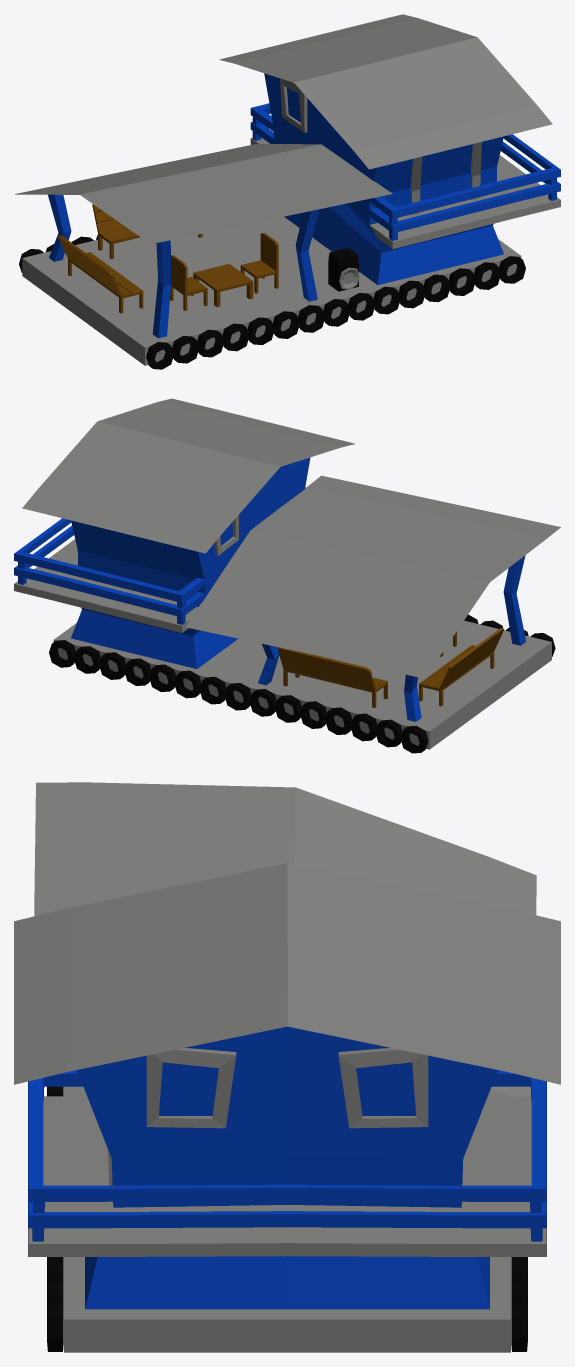
The model's file is 07.11.2026_Bubuia_flutuante1-3.fbx.
3 renders of one model, top to bottom at view 1: azimuth 30°, elevation 25°; view 2: azimuth 150°, elevation 25°; view 3: azimuth 270°, elevation 25°, orthographic. The views are drawn at different scales.
Visible parts, largest first — view 1: Cube.016; view 2: Cube.016; view 3: Cube.016.
Part boxes in pixels (<box>): Cube.016: <box>15,14,560,369</box>; Cube.016: <box>14,398,560,753</box>; Cube.016: <box>14,782,560,1352</box>.
Size of the model in its own units: 30.17 by 13.51 by 19.17.
